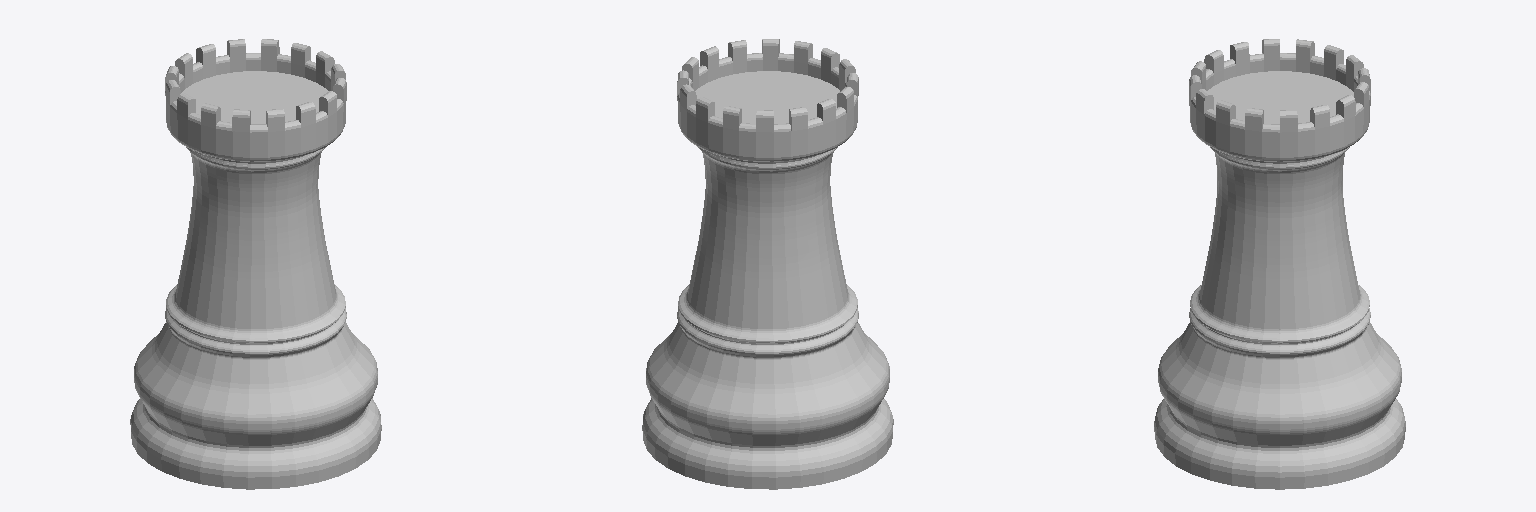
The model's file is rock2.obj.
3 renders of one model, left to right at view 1: azimuth 30°, elevation 25°; view 2: azimuth 150°, elevation 25°; view 3: azimuth 270°, elevation 25°, orthographic.
Visible parts, largest first — view 1: Light_Rock_2; view 2: Light_Rock_2; view 3: Light_Rock_2.
Part boxes in pixels (x1,y1,x2,y2): Light_Rock_2: (130, 39, 381, 489); Light_Rock_2: (642, 39, 893, 489); Light_Rock_2: (1154, 39, 1405, 489).
Bounding box in the file's own units: 1.28 × 2.02 × 1.28.